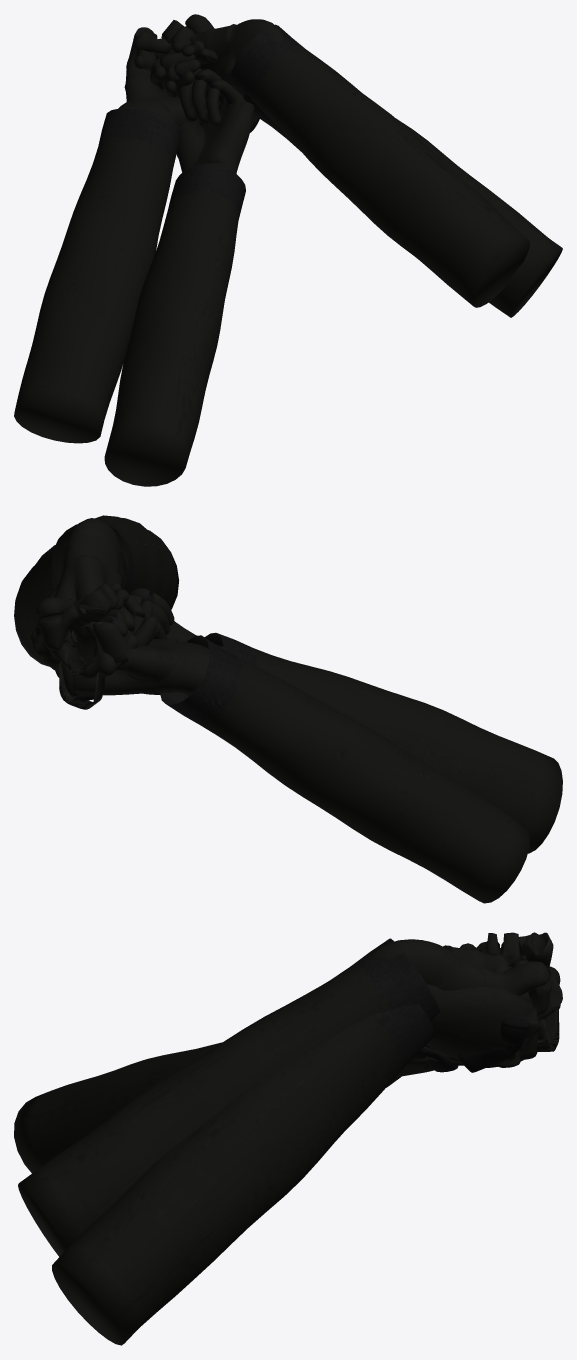
File: hands_low.glb
The picture shows the model from 3 angles, top to bottom: view 1: azimuth 30°, elevation 25°; view 2: azimuth 150°, elevation 25°; view 3: azimuth 270°, elevation 25°; orthographic projection. The views are drawn at different scales.
Parts seen in each view (by area): view 1: arm_axe_r, arm_support_l, arm_load_l, arm_grip_r; view 2: arm_support_l, arm_load_l, arm_axe_r, arm_grip_r; view 3: arm_grip_r, arm_axe_r, arm_load_l, arm_support_l.
Boxes of the visible parts, x1,y1,x2,y2 form: arm_axe_r: [151, 19, 529, 307]; arm_support_l: [14, 20, 217, 443]; arm_load_l: [104, 68, 259, 486]; arm_grip_r: [134, 14, 562, 317]; arm_support_l: [54, 583, 530, 903]; arm_load_l: [71, 588, 562, 853]; arm_axe_r: [49, 515, 179, 678]; arm_grip_r: [14, 542, 160, 709]; arm_grip_r: [52, 935, 559, 1345]; arm_axe_r: [18, 938, 562, 1256]; arm_load_l: [14, 1042, 458, 1173]; arm_support_l: [386, 932, 553, 1087].
Size of what is drawn, in the model's own units: 0.5872 by 0.3587 by 0.4403.
1 material, 1 textured.
